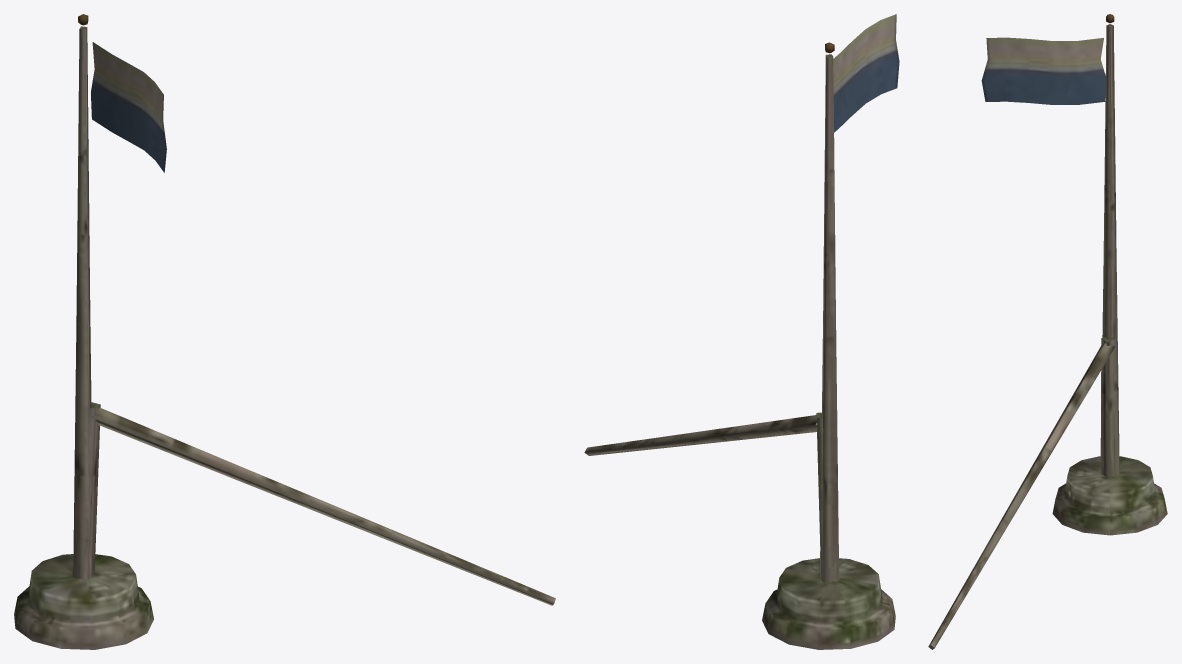
Rendered from starfort_flagstaff_far.glb.
The picture shows the model from 3 angles, left to right: view 1: azimuth 30°, elevation 25°; view 2: azimuth 150°, elevation 25°; view 3: azimuth 270°, elevation 25°; orthographic projection. The views are drawn at different scales.
Visible parts, largest first — view 1: intact, breached, flag; view 2: intact, flag, breached; view 3: intact, flag, breached.
Boxes of the visible parts, x1,y1,x2,y2 form: intact: [14, 14, 153, 649]; breached: [72, 402, 555, 605]; flag: [91, 42, 166, 172]; intact: [762, 42, 895, 649]; flag: [833, 14, 899, 132]; breached: [584, 412, 837, 581]; intact: [1052, 14, 1167, 535]; flag: [981, 37, 1106, 104]; breached: [928, 337, 1119, 649].
Size of what is drawn, in the model's own units: 5.38 by 7.37 by 3.22.
2 materials, 2 textured.
